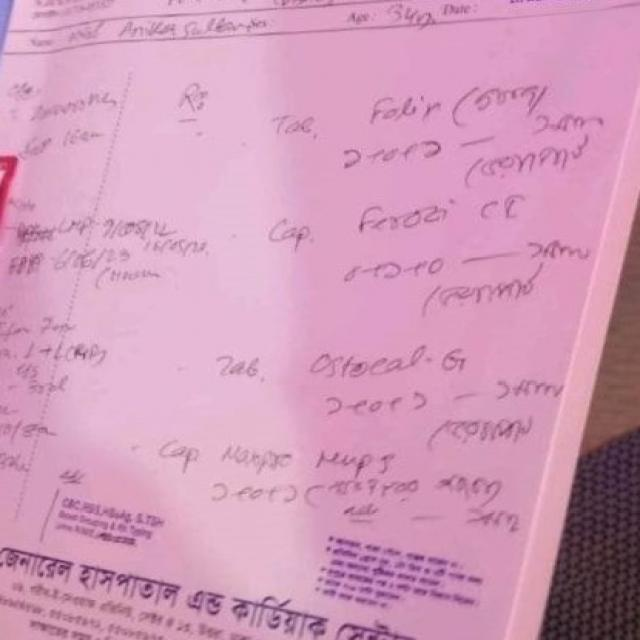Ferozi CI: (335, 187, 524, 247)
Folic: (354, 81, 455, 137)
Maxpro Mups: (214, 432, 401, 478)
Ostocal D: (287, 341, 474, 391)
